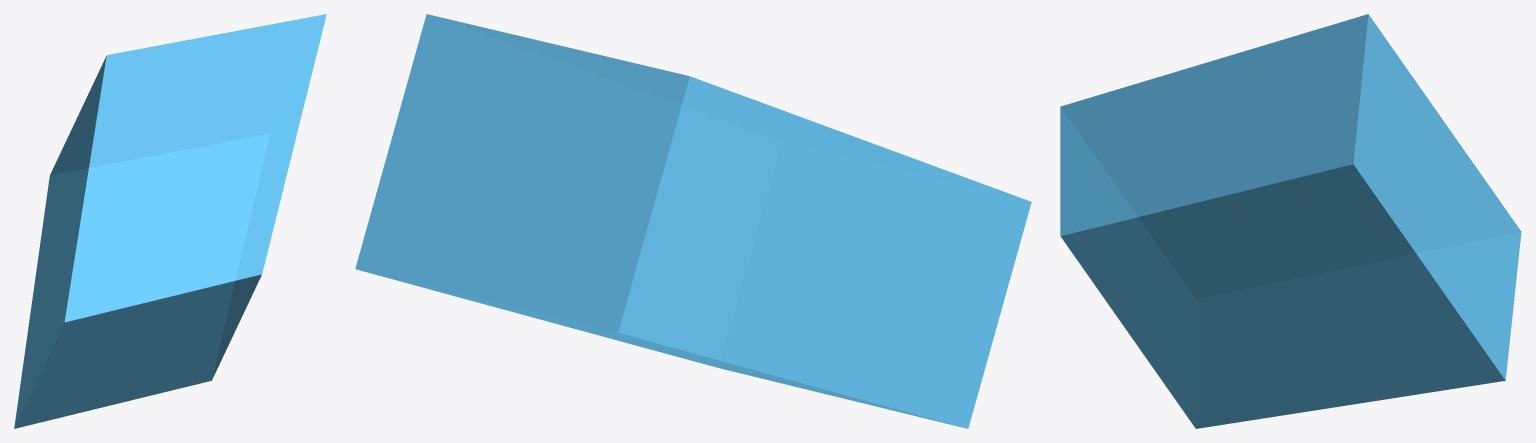
File: Event_420604493_HBrechit_35.fbx
The picture shows the model from 3 angles, left to right: view 1: azimuth 30°, elevation 25°; view 2: azimuth 150°, elevation 25°; view 3: azimuth 270°, elevation 25°; orthographic projection. The views are drawn at different scales.
Parts seen in each view (by area): view 1: Model; view 2: Model; view 3: Model.
Part boxes in pixels (bbox=[...]): Model: bbox=[14, 14, 326, 428]; Model: bbox=[355, 14, 1031, 428]; Model: bbox=[1060, 14, 1521, 428].
Bounding box in the file's own units: 0.9185 × 0.6824 × 0.7346.
